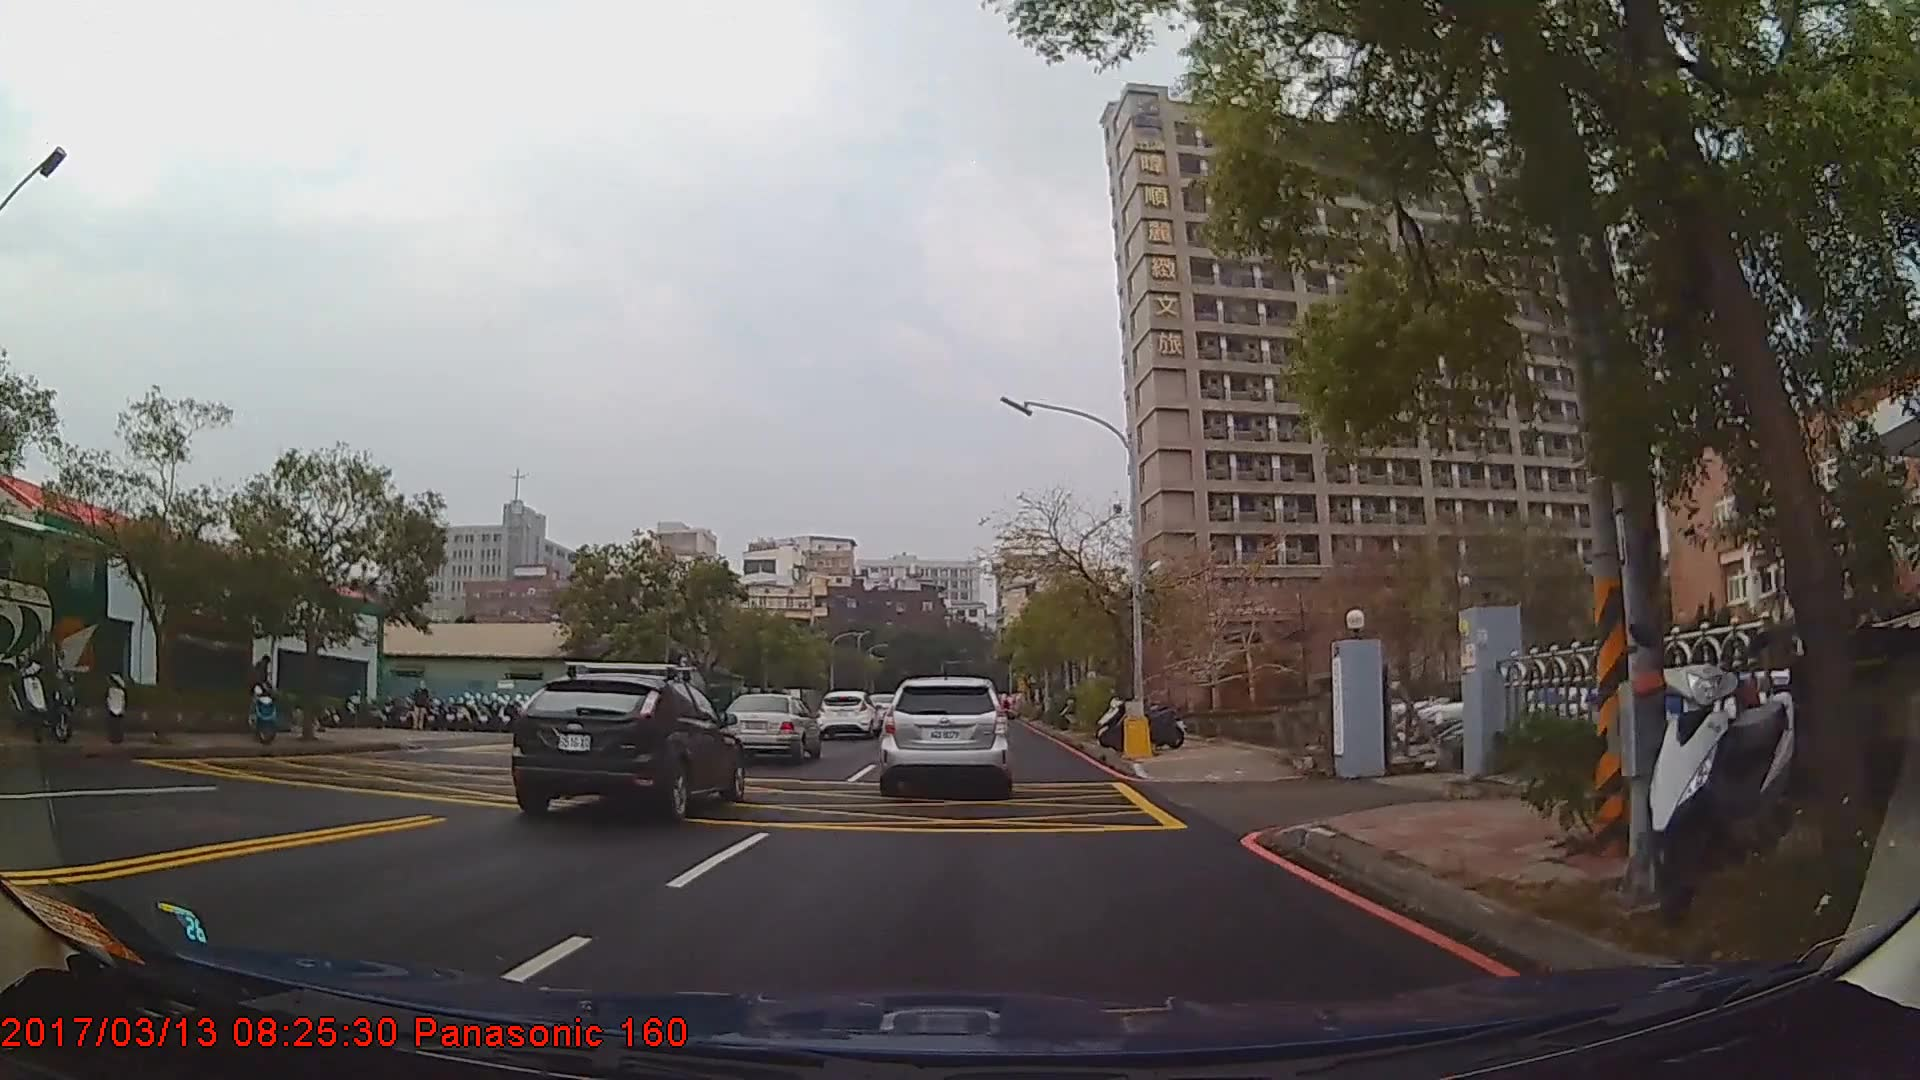pedestrian: (413, 681, 433, 732)
vehicle: (508, 669, 744, 816), (0, 502, 110, 722), (881, 673, 1008, 790), (721, 690, 820, 762), (815, 688, 879, 738)
